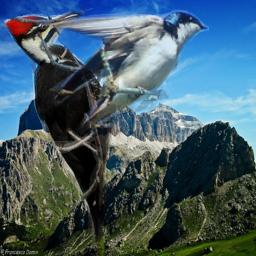Swallow: (36, 8, 209, 140)
Woodpecker: (4, 8, 119, 256)
